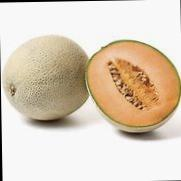Melon Ripe: (83, 37, 181, 132), (1, 32, 87, 121)
